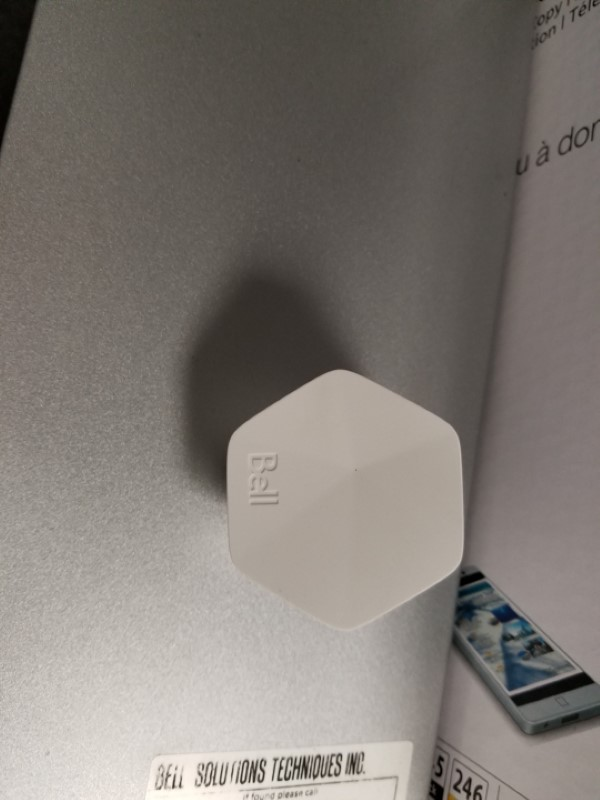pod: (214, 363, 472, 636)
